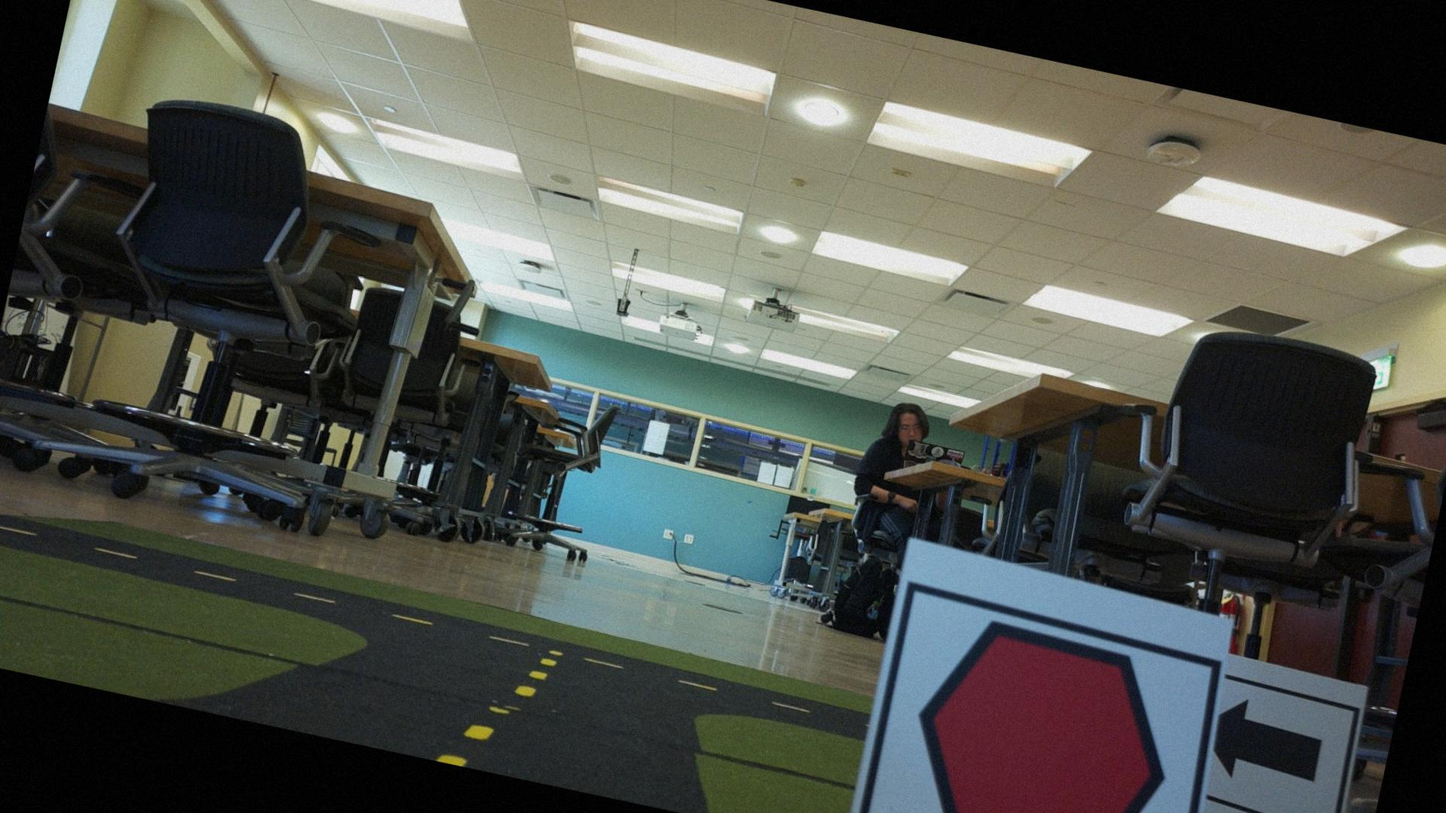stop: (874, 595, 1206, 812)
yellowline: (441, 696, 504, 772), (507, 648, 556, 707)
